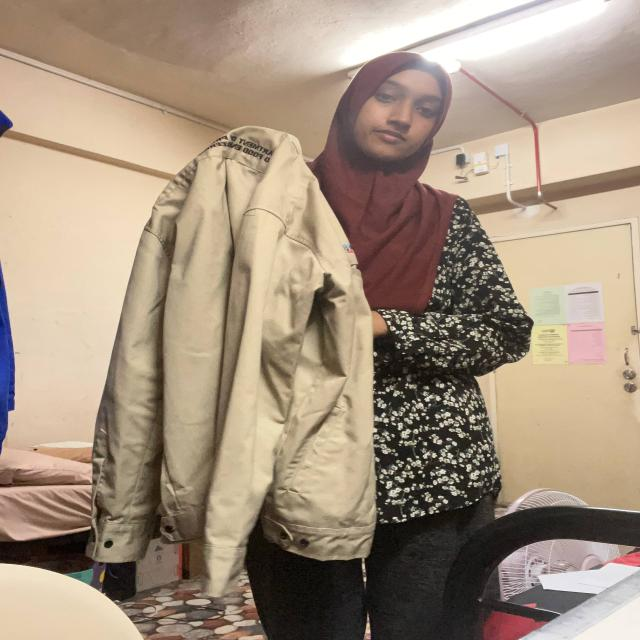person_without_labcoat: (93, 52, 533, 640)
